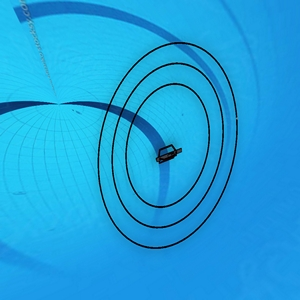circle: (94, 35, 243, 254)
submarine: (155, 145, 185, 162)
